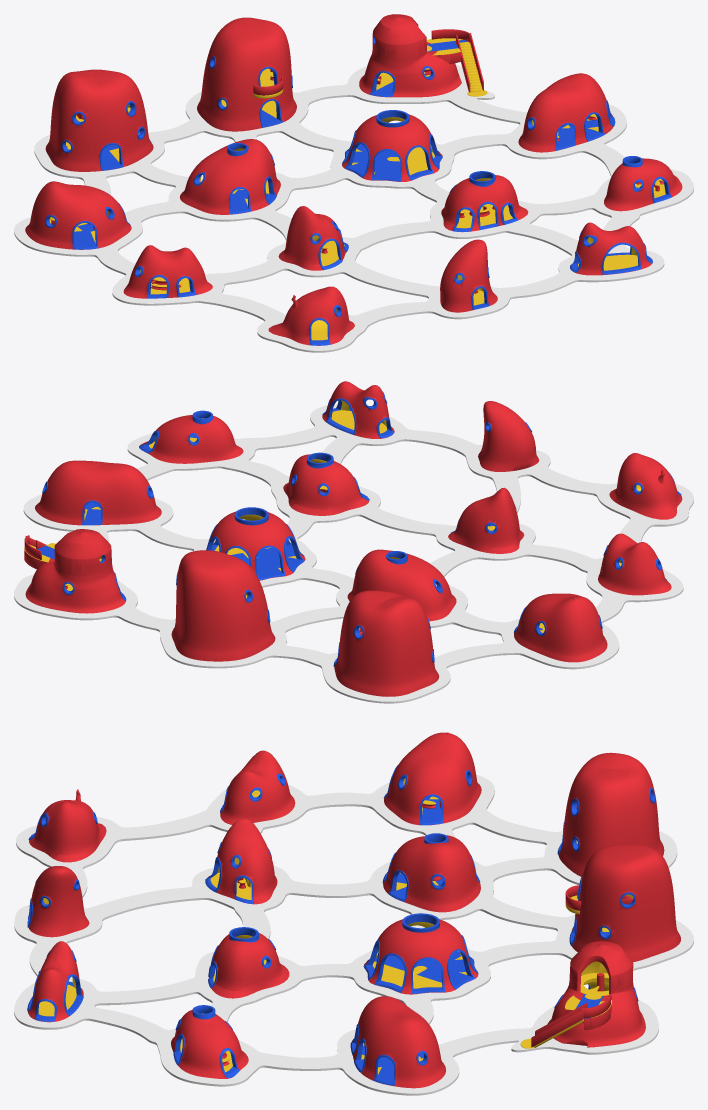
File: adobe_blob_village.glb
3 renders of one model, top to bottom at view 1: azimuth 30°, elevation 25°; view 2: azimuth 150°, elevation 25°; view 3: azimuth 270°, elevation 25°, orthographic. The views are drawn at different scales.
Parts seen in each view (by area): view 1: GRAY ADOBE | 14 shaped pads + 23 winding connections, 13 • Twin-Shoulder Maison, 14 • Leaning Balcony House, 15 • Roofstep Burrow, 12 • Skylight Commons, 11 • Broad Shoulder Hall, 07 • Eight-Arch Adobe Pavilion, 16 • Three-Arch Longhouse, 03 • Three Roots / Open Oculus, 04 • Twin Humps, 01 • Leaning Loaf, 08 • Gentle Beast / Animal Adobe House (+4 smaller); view 2: GRAY ADOBE | 14 shaped pads + 23 winding connections, 14 • Leaning Balcony House, 13 • Twin-Shoulder Maison, 16 • Three-Arch Longhouse, 15 • Roofstep Burrow, 11 • Broad Shoulder Hall, 07 • Eight-Arch Adobe Pavilion, 12 • Skylight Commons, 03 • Three Roots / Open Oculus, 06 • Long Heel, 02 • High Shoulder, 01 • Leaning Loaf (+3 smaller); view 3: GRAY ADOBE | 14 shaped pads + 23 winding connections, 14 • Leaning Balcony House, 13 • Twin-Shoulder Maison, 07 • Eight-Arch Adobe Pavilion, 11 • Broad Shoulder Hall, 16 • Three-Arch Longhouse, 15 • Roofstep Burrow, 12 • Skylight Commons, 03 • Three Roots / Open Oculus, 02 • High Shoulder, 06 • Long Heel, 04 • Twin Humps (+4 smaller).
Part boxes in pixels (x1,y1,x2,y2): GRAY ADOBE | 14 shaped pads + 23 winding connections: (14,64,693,352); 13 • Twin-Shoulder Maison: (45,69,153,171); 14 • Leaning Balcony House: (197,17,296,131); 15 • Roofstep Burrow: (359,14,467,97); 12 • Skylight Commons: (180,139,280,214); 11 • Broad Shoulder Hall: (25,181,131,249); 07 • Eight-Arch Adobe Pavilion: (342,110,442,181); 16 • Three-Arch Longhouse: (518,73,615,152); 03 • Three Roots / Open Oculus: (441,171,528,232); 04 • Twin Humps: (123,245,212,298); 01 • Leaning Loaf: (268,286,354,345); 08 • Gentle Beast / Animal Adobe House: (570,222,652,275); GRAY ADOBE | 14 shaped pads + 23 winding connections: (14,404,693,703); 14 • Leaning Balcony House: (171,550,275,661); 13 • Twin-Shoulder Maison: (333,590,439,696); 16 • Three-Arch Longhouse: (35,460,161,525); 15 • Roofstep Burrow: (24,529,126,613); 11 • Broad Shoulder Hall: (514,593,607,662); 07 • Eight-Arch Adobe Pavilion: (206,507,305,580); 12 • Skylight Commons: (347,549,456,621); 03 • Three Roots / Open Oculus: (283,452,369,515); 06 • Long Heel: (139,410,243,463); 02 • High Shoulder: (448,487,524,553); 01 • Leaning Loaf: (609,453,682,519); GRAY ADOBE | 14 shaped pads + 23 winding connections: (14,775,693,1095); 14 • Leaning Balcony House: (569,844,680,962); 13 • Twin-Shoulder Maison: (557,752,664,876); 07 • Eight-Arch Adobe Pavilion: (363,913,478,994); 11 • Broad Shoulder Hall: (384,732,481,825); 16 • Three-Arch Longhouse: (350,996,445,1088); 15 • Roofstep Burrow: (547,941,645,1047); 12 • Skylight Commons: (382,833,480,912); 03 • Three Roots / Open Oculus: (208,927,289,998); 02 • High Shoulder: (205,819,277,904); 06 • Long Heel: (171,1005,248,1078); 04 • Twin Humps: (220,750,295,824).
Bounding box in the file's own units: 60.63 × 8.17 × 53.98.
